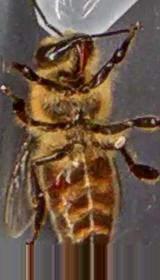varroa_mite: (40, 162, 73, 198)
